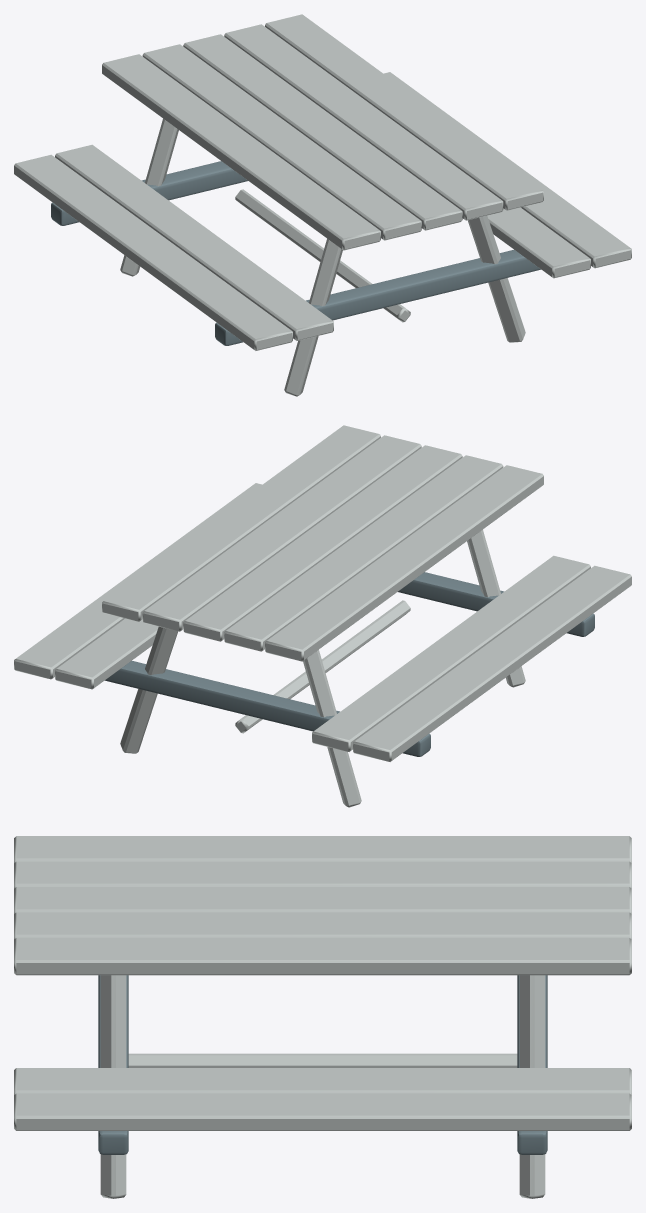
The model's file is picnic-table.glb.
The picture shows the model from 3 angles, top to bottom: view 1: azimuth 30°, elevation 25°; view 2: azimuth 150°, elevation 25°; view 3: azimuth 270°, elevation 25°; orthographic projection. The views are drawn at different scales.
Parts seen in each view (by area): view 1: bench0, tabletop0, bench1, tabletop2, tabletop3, tabletop1, tabletop4, bench_support.001, bench1.001, bench0.001, bench_support, splayed_leg.002 (+3 smaller); view 2: bench0, tabletop0, bench1, tabletop2, tabletop3, tabletop1, tabletop4, bench_support, bench1.001, bench0.001, bench_support.001, splayed_leg (+3 smaller); view 3: tabletop4, bench1.001, bench0.001, tabletop0, tabletop1, tabletop2, tabletop3, centre_brace, splayed_leg.001, splayed_leg.003, bench_support, bench_support.001.
Part boxes in pixels (bbox=[...]): bench0: bbox=[14, 154, 292, 350]; tabletop0: bbox=[102, 54, 380, 250]; bench1: bbox=[55, 144, 333, 340]; tabletop2: bbox=[183, 34, 462, 230]; tabletop3: bbox=[224, 24, 503, 220]; tabletop1: bbox=[142, 44, 421, 240]; tabletop4: bbox=[265, 14, 543, 210]; bench_support.001: bbox=[215, 250, 540, 345]; bench1.001: bbox=[384, 72, 631, 268]; bench0.001: bbox=[487, 207, 590, 278]; bench_support: bbox=[51, 161, 247, 225]; splayed_leg.002: bbox=[284, 238, 342, 396]; bench0: bbox=[353, 565, 631, 761]; tabletop0: bbox=[265, 465, 543, 661]; bench1: bbox=[312, 555, 590, 751]; tabletop2: bbox=[183, 445, 462, 641]; tabletop3: bbox=[142, 435, 421, 631]; tabletop1: bbox=[224, 455, 503, 651]; tabletop4: bbox=[102, 425, 380, 621]; bench_support: bbox=[105, 661, 430, 756]; bench1.001: bbox=[14, 483, 261, 679]; bench0.001: bbox=[55, 618, 158, 689]; bench_support.001: bbox=[398, 572, 594, 636]; splayed_leg: bbox=[303, 649, 361, 807]; tabletop4: bbox=[14, 937, 631, 975]; bench1.001: bbox=[14, 1093, 631, 1130]; bench0.001: bbox=[14, 1068, 631, 1094]; tabletop0: bbox=[14, 836, 631, 863]; tabletop1: bbox=[14, 861, 631, 888]; tabletop2: bbox=[14, 887, 631, 913]; tabletop3: bbox=[14, 912, 631, 939]; centre_brace: bbox=[128, 1053, 517, 1067]; splayed_leg.001: bbox=[519, 975, 545, 1198]; splayed_leg.003: bbox=[100, 975, 126, 1198]; bench_support: bbox=[517, 975, 547, 1154]; bench_support.001: bbox=[98, 975, 128, 1154].
Size of the model in its own units: 1.65 by 0.7594 by 1.83.
